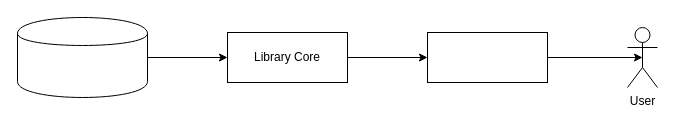
The diagram is 675 pixels wide and 126 high, and some of its shapes have lost their labels. Each missing label, with the centre of its shape:
Base de datos: the point at 82,57
Library Plataform: the point at 487,57
